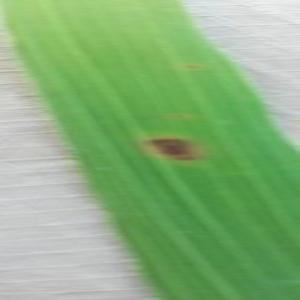Brown_Spot: (138, 128, 203, 167)
